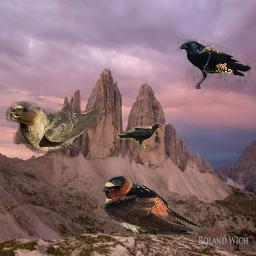Crow: (176, 39, 251, 89), (117, 123, 162, 148)
Swallow: (101, 175, 204, 236), (6, 101, 106, 155)
